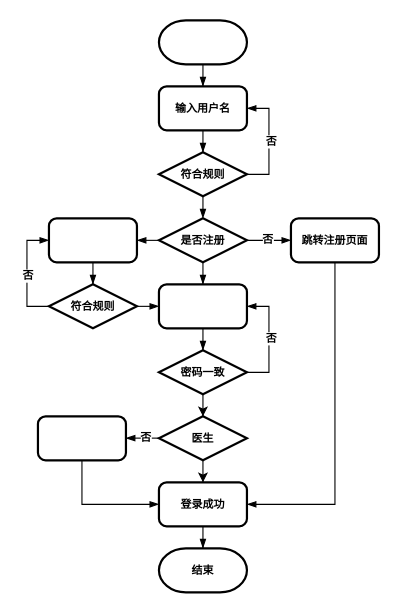
The diagram is 399 pixels wide and 612 high, and some of its shapes have lost their labels. The shapes that lost their labels are listed below. From the top down, each one's box as (x1, y1, x2, y2) in pixels, then its label:
(157, 19, 248, 65): 开始
(47, 217, 138, 263): 输入密码
(157, 283, 248, 329): 确认密码
(36, 415, 127, 461): 普通患者权限
